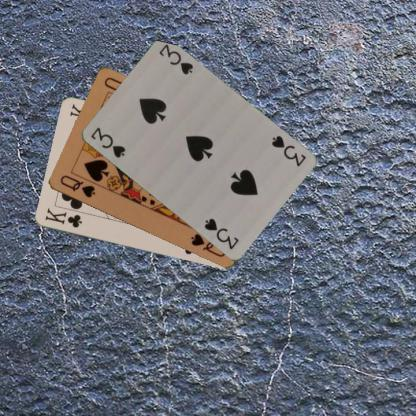3s: (87, 124, 127, 160), (268, 132, 307, 168)
Kc: (42, 204, 83, 230)
Qs: (58, 173, 96, 199)
